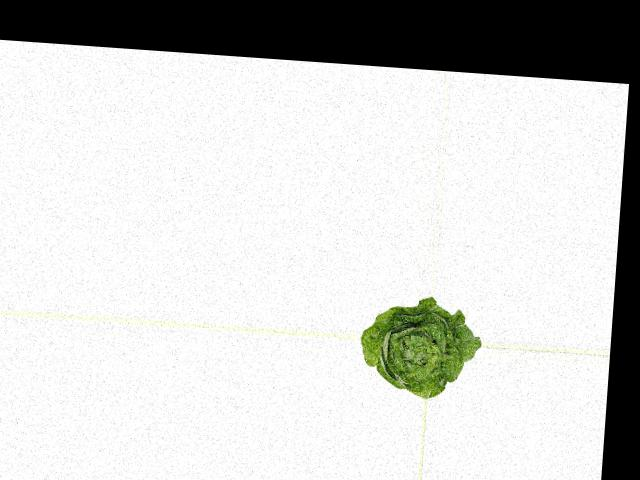lettuce: (356, 292, 481, 401)
